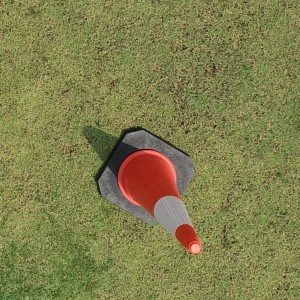traffic cone: (97, 129, 202, 254)
